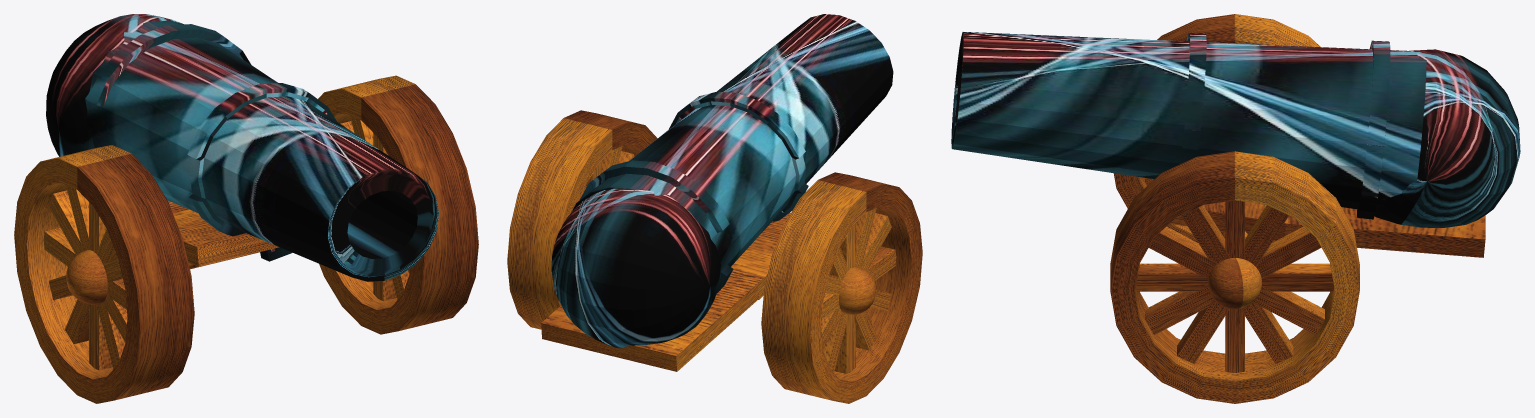
The model's file is canon.fbx.
3 renders of one model, left to right at view 1: azimuth 30°, elevation 25°; view 2: azimuth 150°, elevation 25°; view 3: azimuth 270°, elevation 25°, orthographic. The views are drawn at different scales.
Visible parts, largest first — view 1: pCube11, cannon_body:pSphere12; view 2: cannon_body:pSphere12, pCube11; view 3: cannon_body:pSphere12, pCube11.
Part boxes in pixels (x1,y1,x2,y2): pCube11: (14,75,478,403); cannon_body:pSphere12: (46,14,438,281); cannon_body:pSphere12: (551,14,893,348); pCube11: (507,110,922,403); cannon_body:pSphere12: (951,32,1520,227); pCube11: (1110,14,1485,403).
Size of the model in its own units: 3.22 by 2.5 by 4.56.
Materials: 2 (2 with a texture image).
